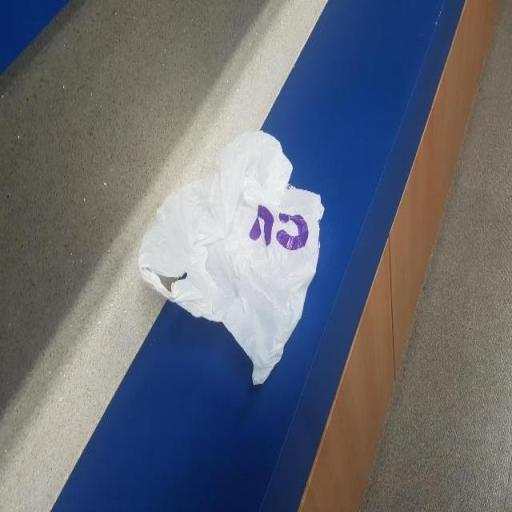plastic-bag: (134, 127, 329, 388)
